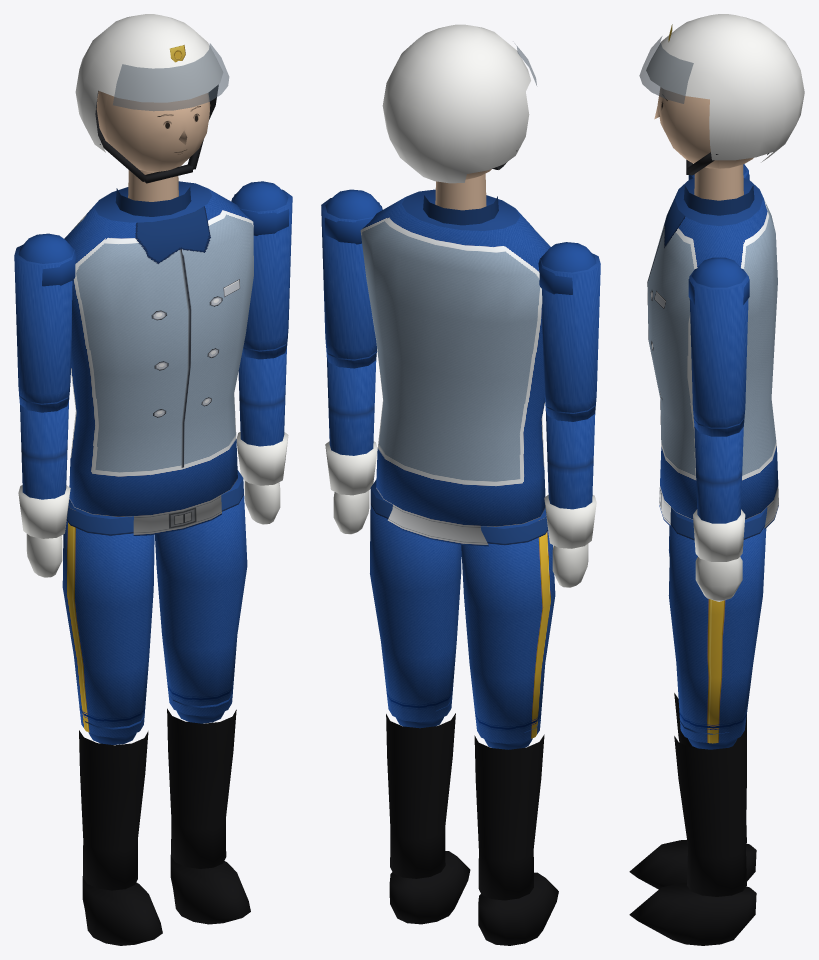
The model's file is police_rider.glb.
The picture shows the model from 3 angles, left to right: view 1: azimuth 30°, elevation 25°; view 2: azimuth 150°, elevation 25°; view 3: azimuth 270°, elevation 25°; orthographic projection.
Visible parts, largest first — view 1: Torso, Head, ThighR, ThighL, ShinL, ShinR, UpperArmR, ForearmR, UpperArmL, ForearmL; view 2: Torso, Head, ThighR, ThighL, ShinL, ShinR, UpperArmR, UpperArmL, ForearmR, ForearmL; view 3: Torso, Head, ShinL, ThighL, UpperArmL, ForearmL, ShinR.
Part boxes in pixels (left/top/right/bottom): Torso: left=64, top=169, right=253, bottom=535; Head: left=75, top=14, right=229, bottom=183; ThighR: left=62, top=499, right=154, bottom=737; ThighL: left=155, top=470, right=247, bottom=716; ShinL: left=167, top=693, right=250, bottom=924; ShinR: left=79, top=714, right=162, bottom=945; UpperArmR: left=14, top=233, right=76, bottom=412; ForearmR: left=18, top=391, right=70, bottom=577; UpperArmL: left=231, top=181, right=292, bottom=359; ForearmL: left=236, top=337, right=288, bottom=524; Torso: left=360, top=173, right=550, bottom=546; Head: left=382, top=24, right=536, bottom=183; ThighR: left=461, top=508, right=555, bottom=743; ThighL: left=370, top=480, right=461, bottom=722; ShinL: left=386, top=699, right=470, bottom=924; ShinR: left=474, top=720, right=558, bottom=945; UpperArmR: left=538, top=242, right=600, bottom=421; UpperArmL: left=321, top=189, right=382, bottom=368; ForearmR: left=544, top=400, right=596, bottom=587; ForearmL: left=325, top=347, right=377, bottom=534; Torso: left=647, top=164, right=778, bottom=529; Head: left=639, top=14, right=804, bottom=175; ShinL: left=629, top=720, right=756, bottom=945; ThighL: left=668, top=507, right=767, bottom=743; UpperArmL: left=688, top=257, right=749, bottom=436; ForearmL: left=693, top=417, right=745, bottom=601; ShinR: left=629, top=693, right=756, bottom=889.
Bounding box in the file's own units: 0.5803 × 1.84 × 0.328.
9 materials, 4 textured.
